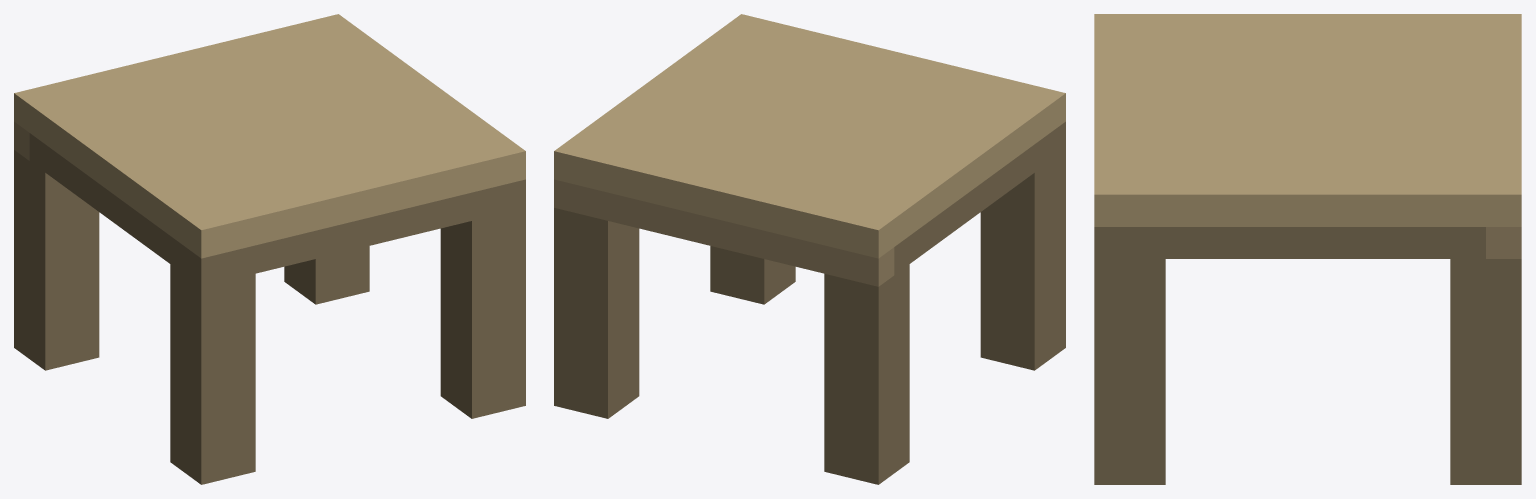
The model's file is brujula_mesa_bronce_01.glb.
The picture shows the model from 3 angles, left to right: view 1: azimuth 30°, elevation 25°; view 2: azimuth 150°, elevation 25°; view 3: azimuth 270°, elevation 25°; orthographic projection. The views are drawn at different scales.
Visible parts, largest first — view 1: brujula_mesa_bronce; view 2: brujula_mesa_bronce; view 3: brujula_mesa_bronce.
Part boxes in pixels (bbox=[...]): brujula_mesa_bronce: bbox=[14, 14, 525, 484]; brujula_mesa_bronce: bbox=[554, 14, 1065, 484]; brujula_mesa_bronce: bbox=[1094, 14, 1521, 484].
Size of the model in its own units: 1 by 0.75 by 1.
